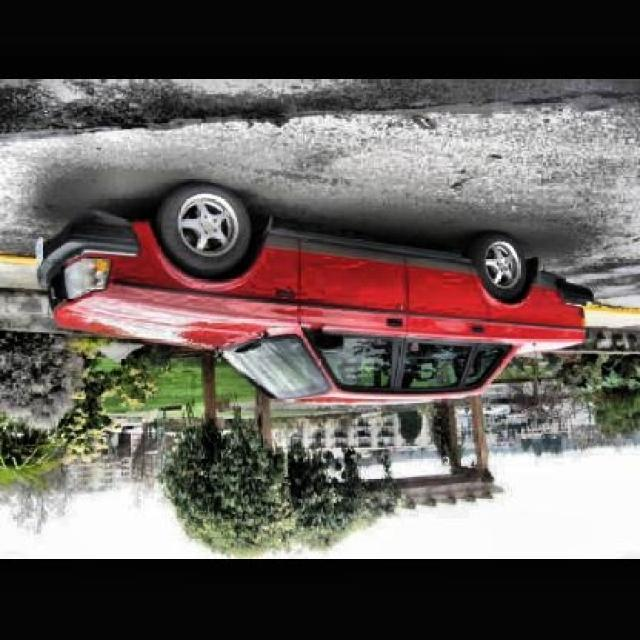red: (29, 221, 564, 400)
